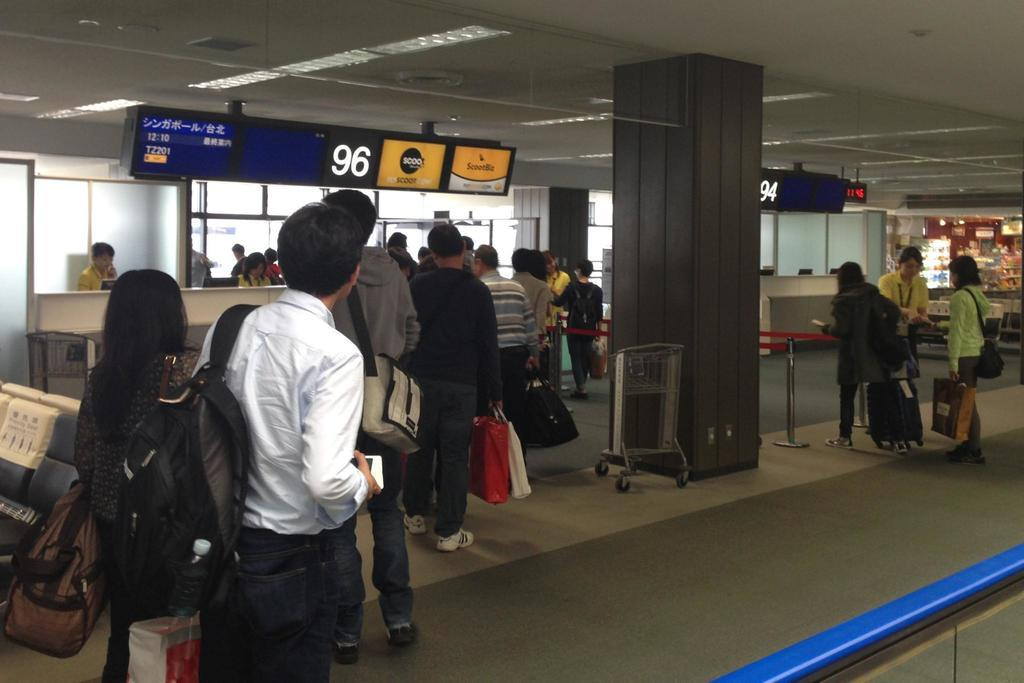Luggage-and-bags: (113, 300, 265, 616), (0, 472, 99, 656), (346, 283, 421, 462), (502, 365, 582, 451), (863, 376, 925, 451), (960, 290, 1006, 383), (488, 405, 530, 504), (929, 374, 976, 440), (572, 283, 594, 342)
